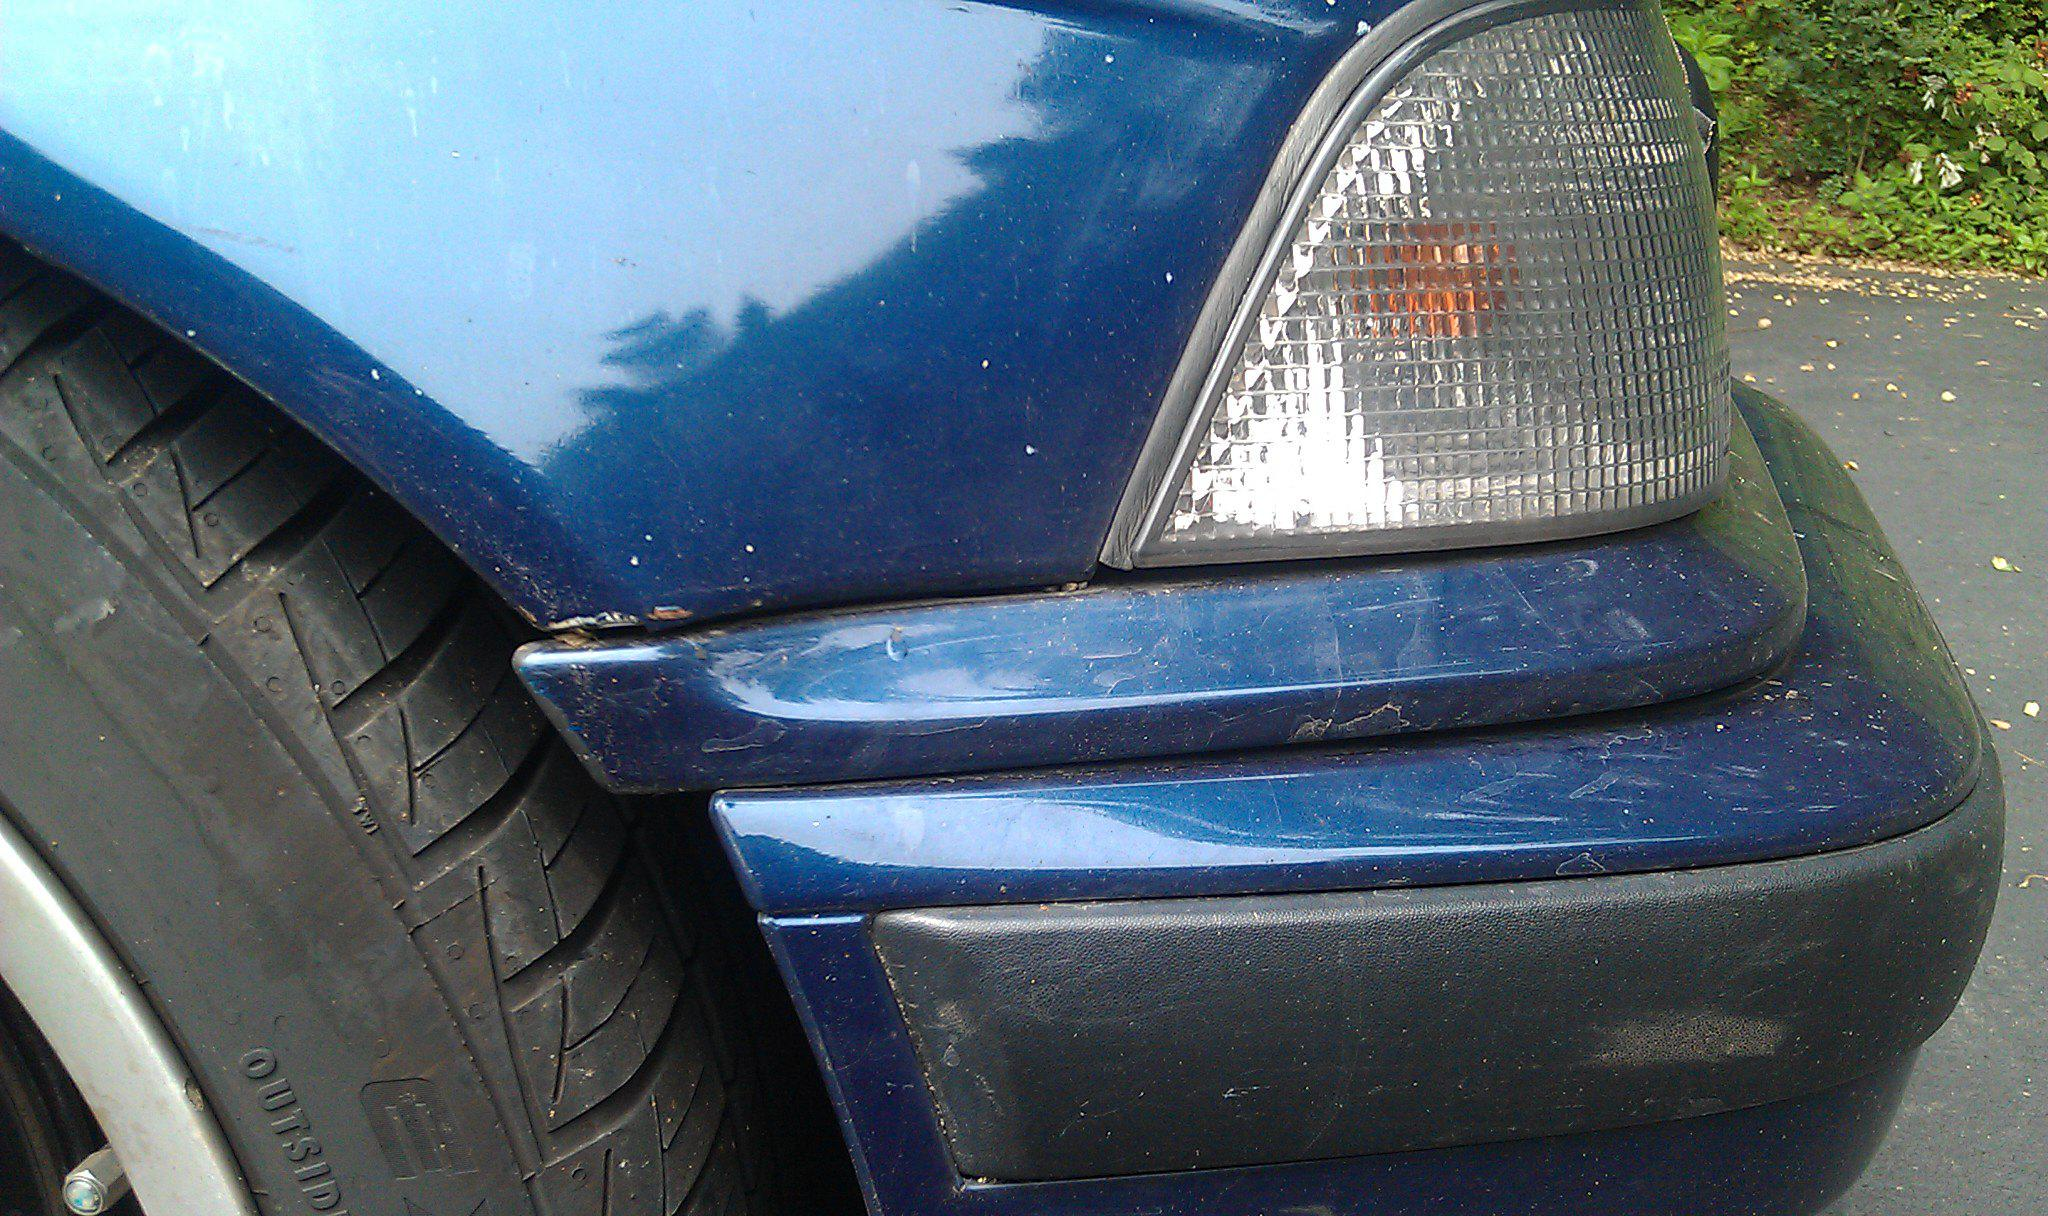fender-dent: (188, 0, 1512, 1180)
